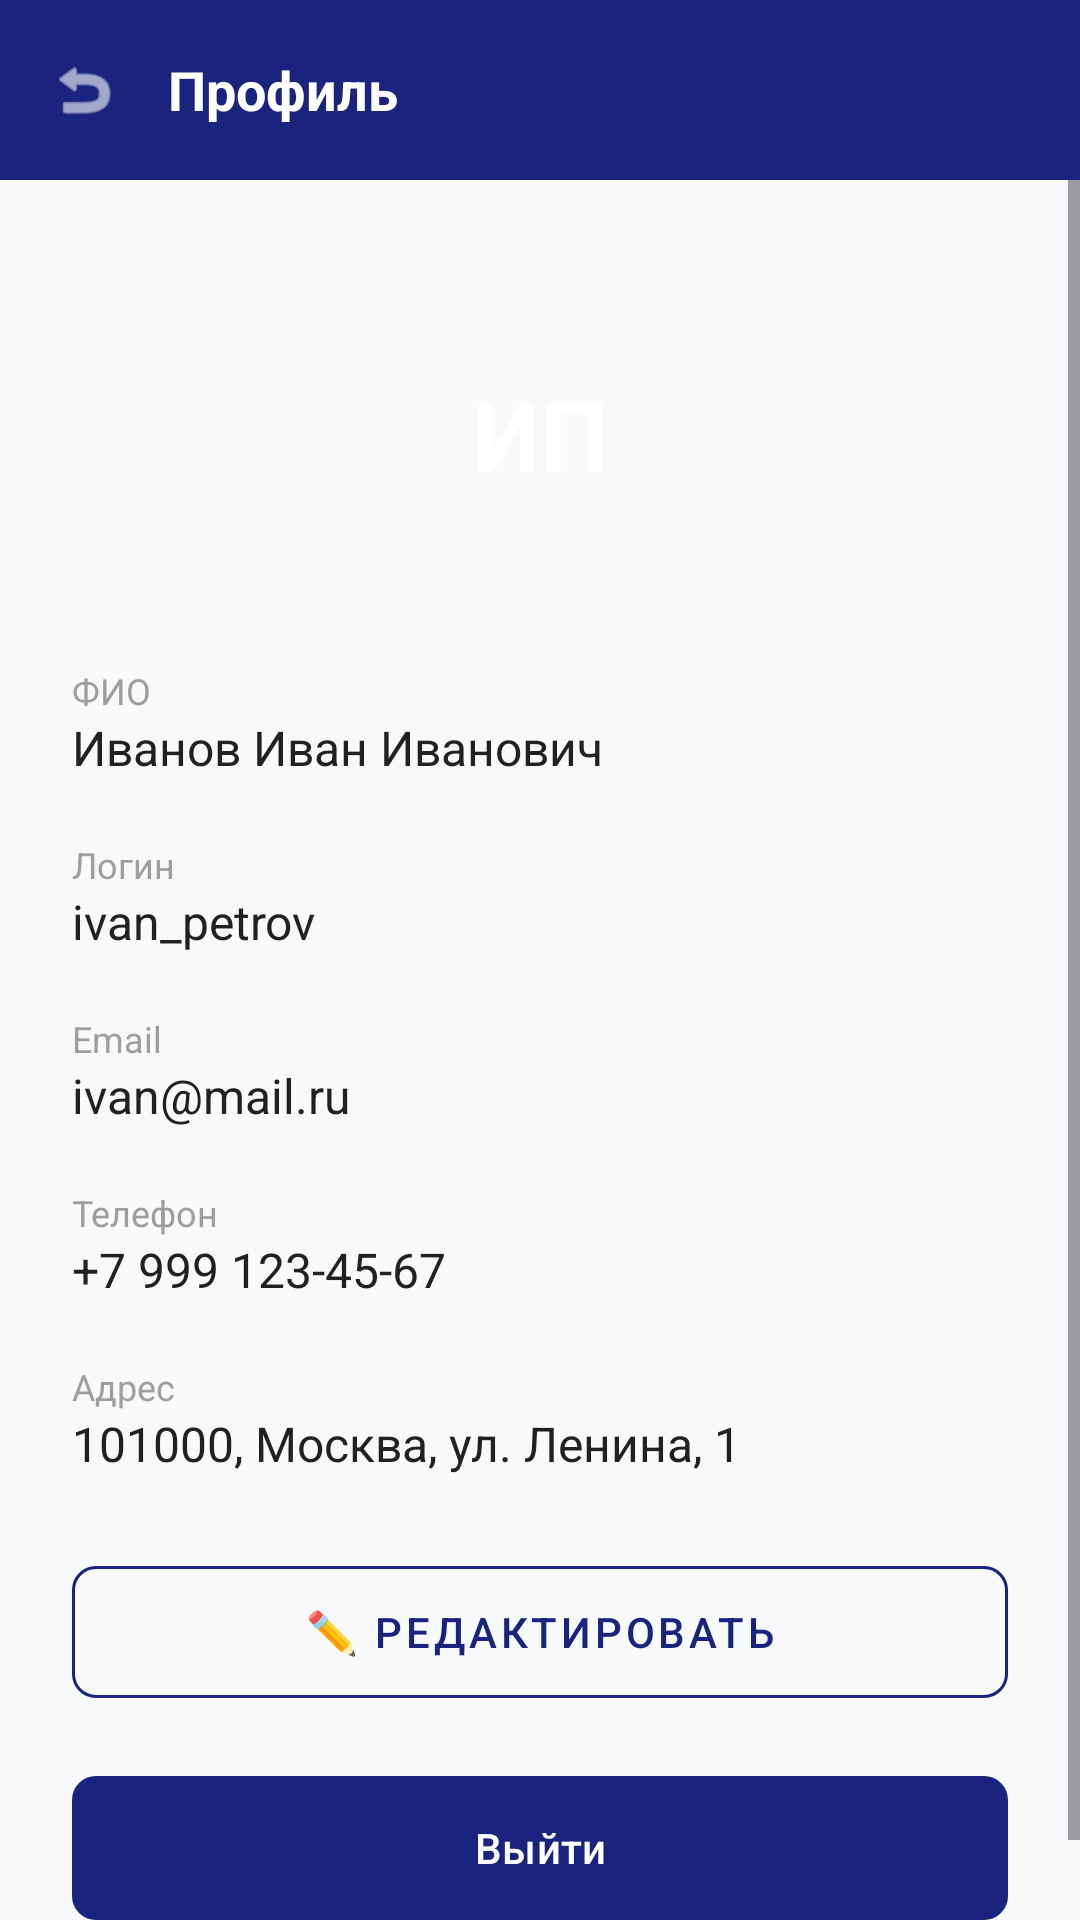

Icon click points for this 1080 x 1920 phone screenshot, format (x=x, y=y):
revert: (x=85, y=90)
